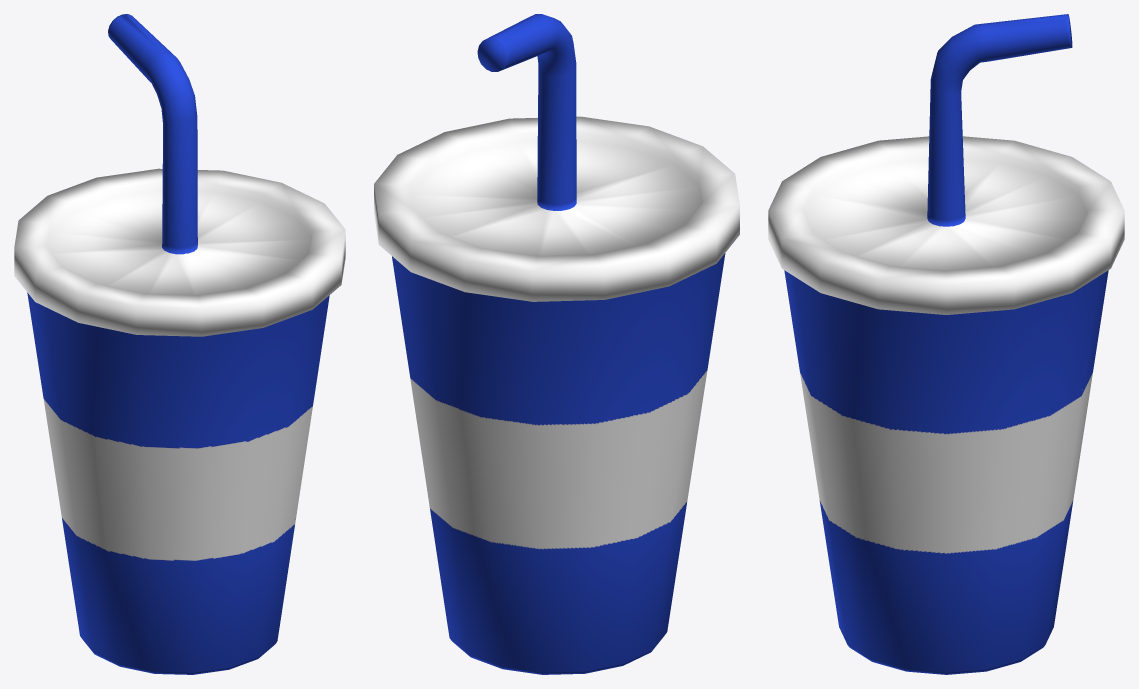
The model's file is BlueDrink.fbx.
The picture shows the model from 3 angles, left to right: view 1: azimuth 30°, elevation 25°; view 2: azimuth 150°, elevation 25°; view 3: azimuth 270°, elevation 25°; orthographic projection. The views are drawn at different scales.
Visible parts, largest first — view 1: Drink_low; view 2: Drink_low; view 3: Drink_low.
Boxes of the visible parts, x1,y1,x2,y2 form: Drink_low: [14, 14, 345, 674]; Drink_low: [374, 14, 739, 674]; Drink_low: [768, 14, 1124, 674].
Bounding box in the file's own units: 212 × 212 × 404.
Materials: 1 (1 with a texture image).
